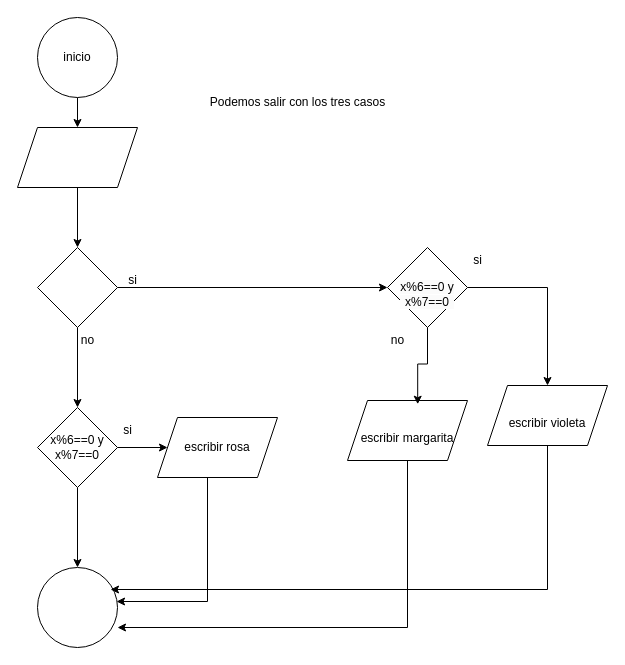
This 625x665 diagram has some shape labels left out. The shapes that lost their labels are listed below. From the top down, each one's centre as x and y in pixels, then its label:
point (77, 157): pedir numero x
point (77, 287): x%5==0 y x%3==0
point (77, 607): fin
